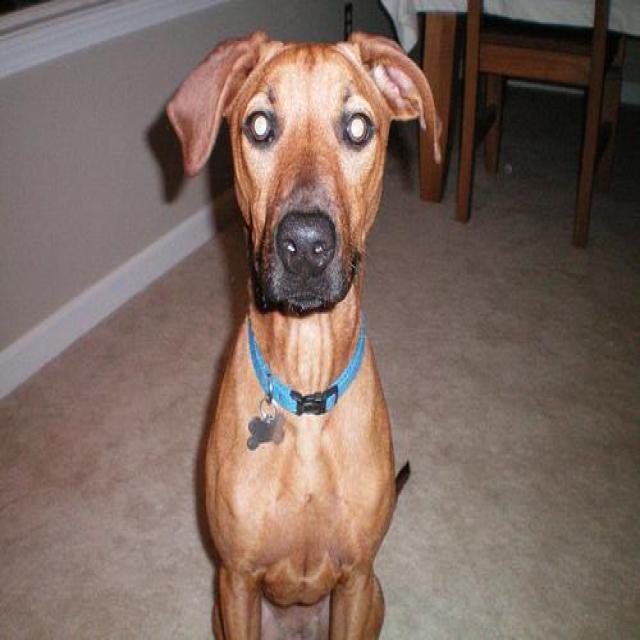rhodesian_ridgeback: (160, 27, 448, 638)
